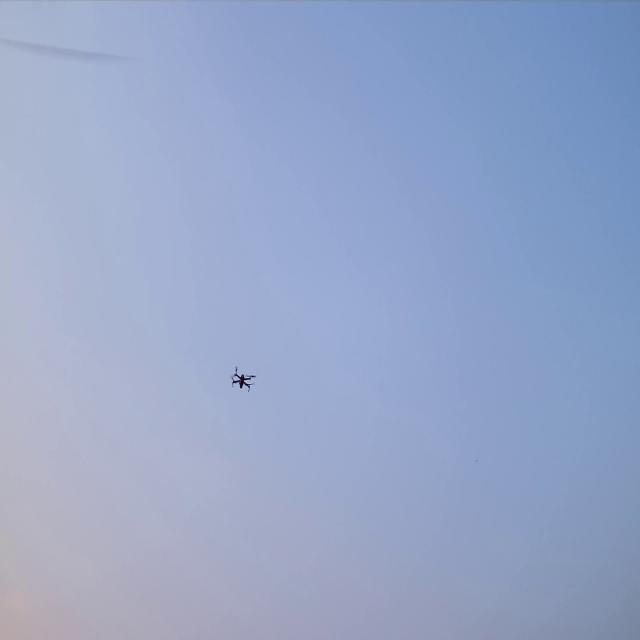UAV: (229, 365, 257, 393)
